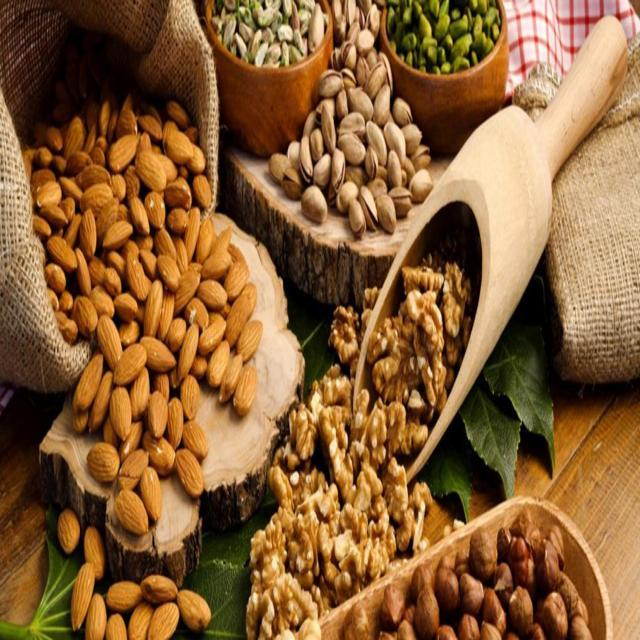Frutta secca: (25, 119, 253, 505), (257, 252, 453, 602), (328, 506, 589, 640), (277, 3, 427, 215)
